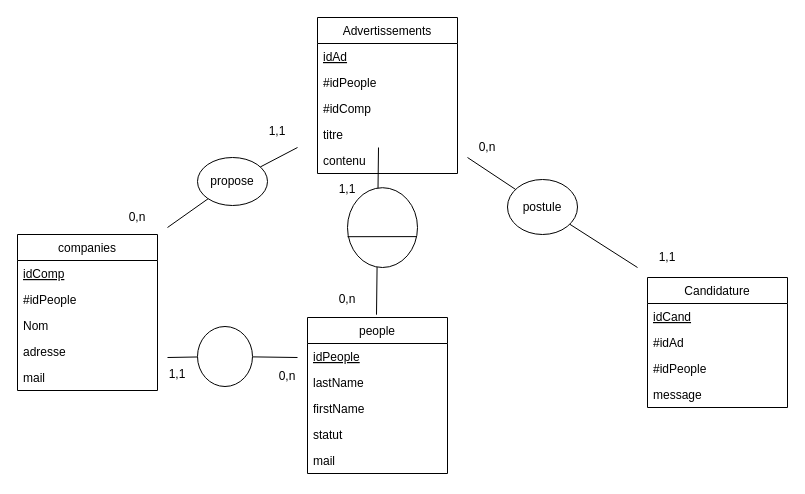
The diagram is 805 pixels wide and 494 high, and some of its shapes have lost their labels. The shapes that lost their labels are listed below. From the top down, each one's centre as x and y in pixels, then its label:
At point (382, 227): "Publier".
At point (224, 356): "possède".
